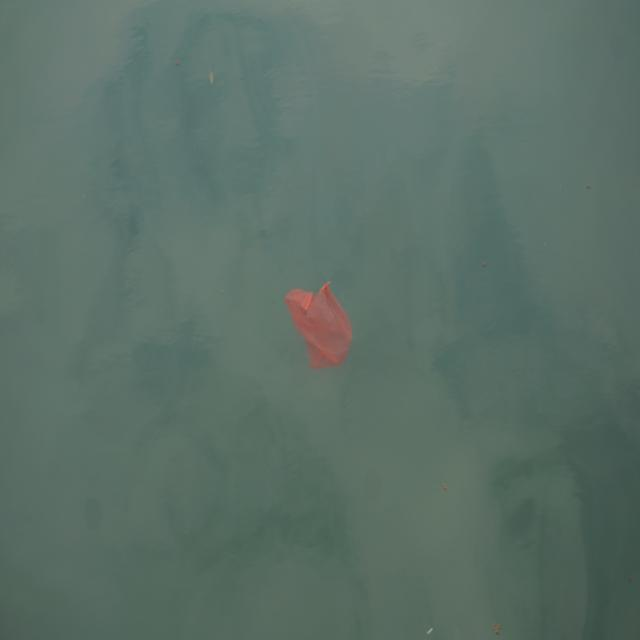Kantong Plastik: (284, 275, 358, 378)
